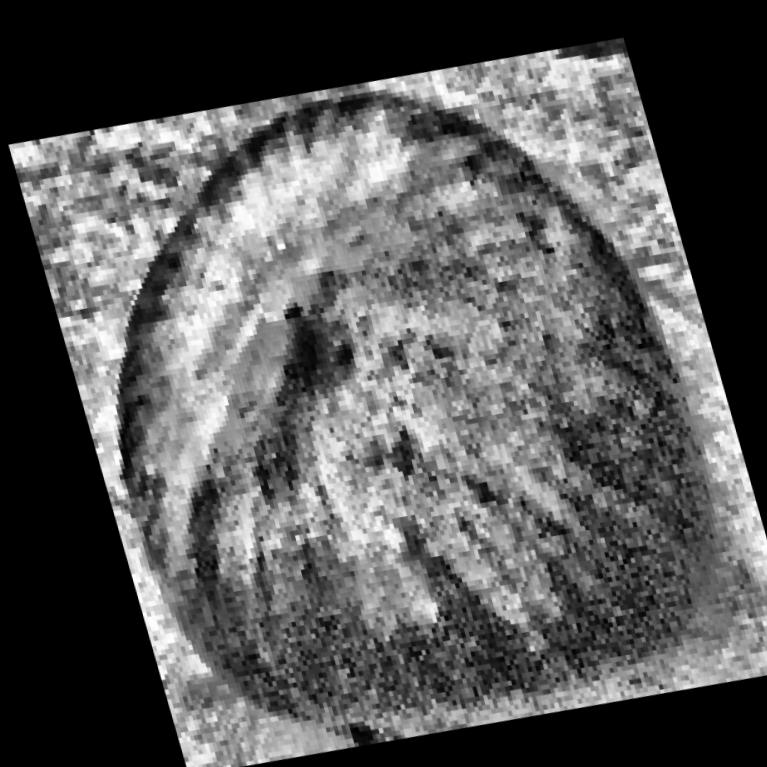qualityHazelnut: (3, 0, 767, 767)
